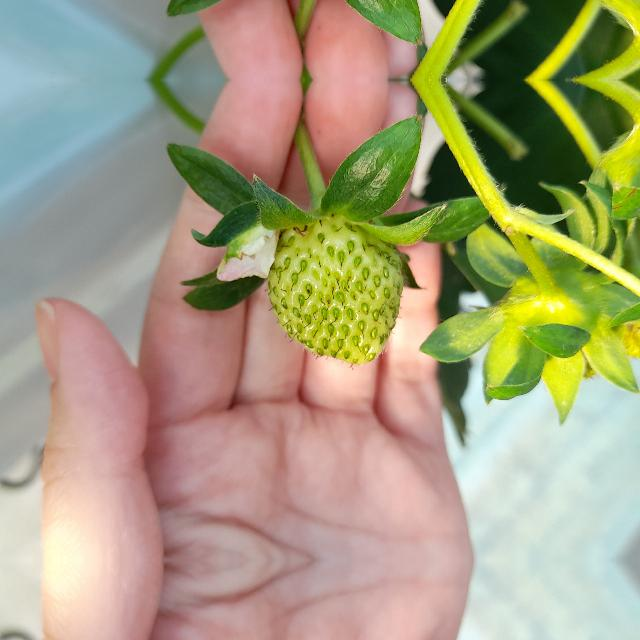Health_25: (264, 212, 404, 371)
